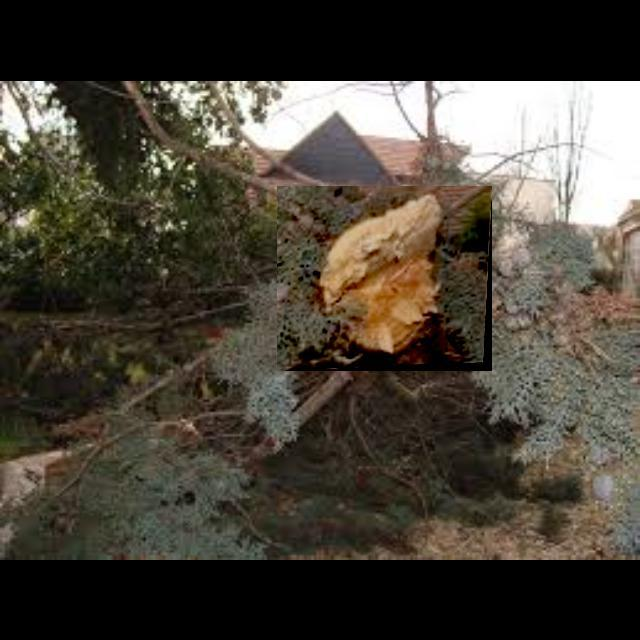fallen_tree: (277, 186, 493, 372)
